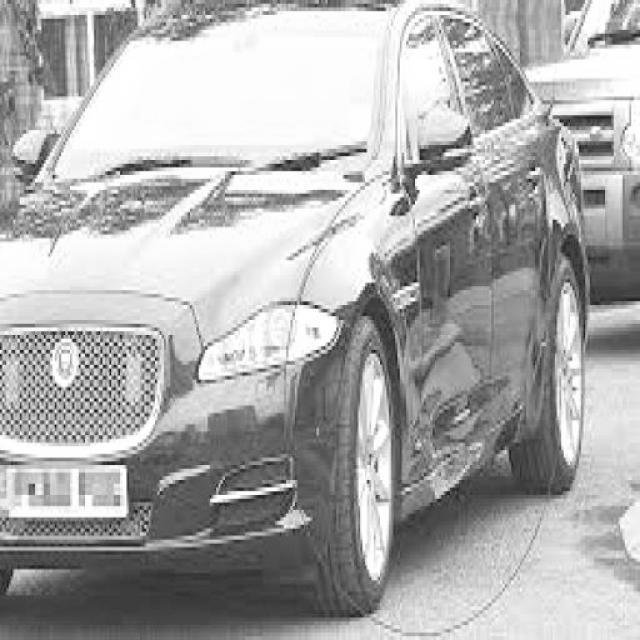car damage: (403, 292, 499, 518)
